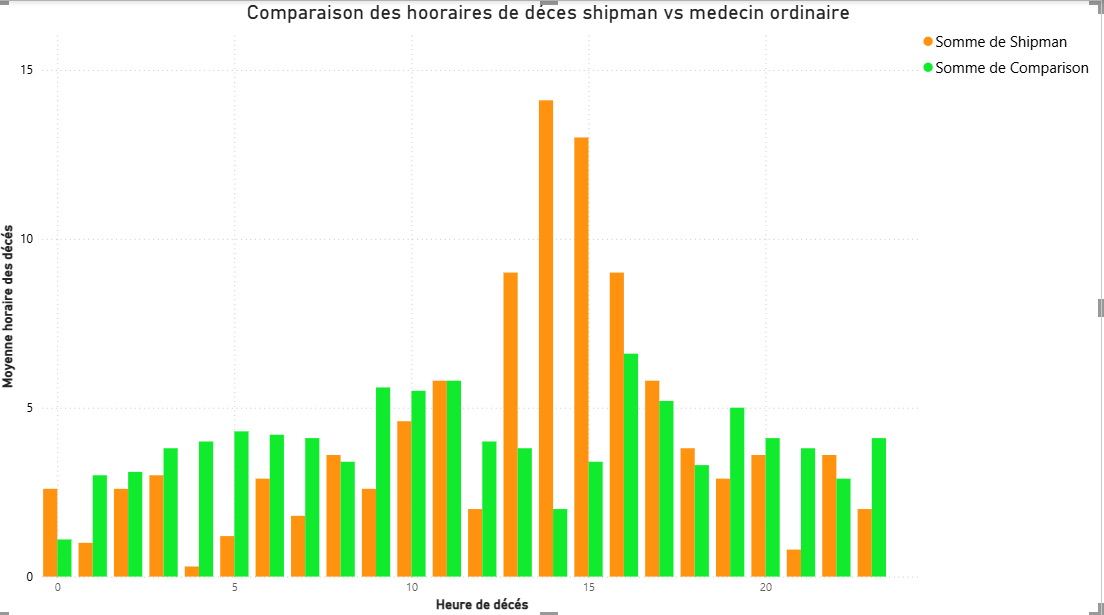

This screenshot's page, from the dashboard's own definition file:
{"tool":"powerbi","page":{"name":"comparaison","canvas":[1280,720],"ordinal":5},"visuals":[{"type":"clusteredColumnChart","title":"Comparaison horaires","fields":{"Category":["shipman-times-comparison.Hour"],"Y":["shipman-times-comparison.Shipman","shipman-times-comparison.Comparison"]},"box":[9.7,0,1195,665.5],"z":0}]}

Visuals, with their boxes in screenshot pixels (x1, y1, x2, y2), scaled from the page's 1280x720 canvas onto the 1104x615 screenshot:
"Comparaison horaires" clusteredColumnChart: <box>8,0,1039,568</box>
